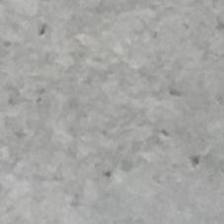Non_Crack: (15, 0, 222, 204)
